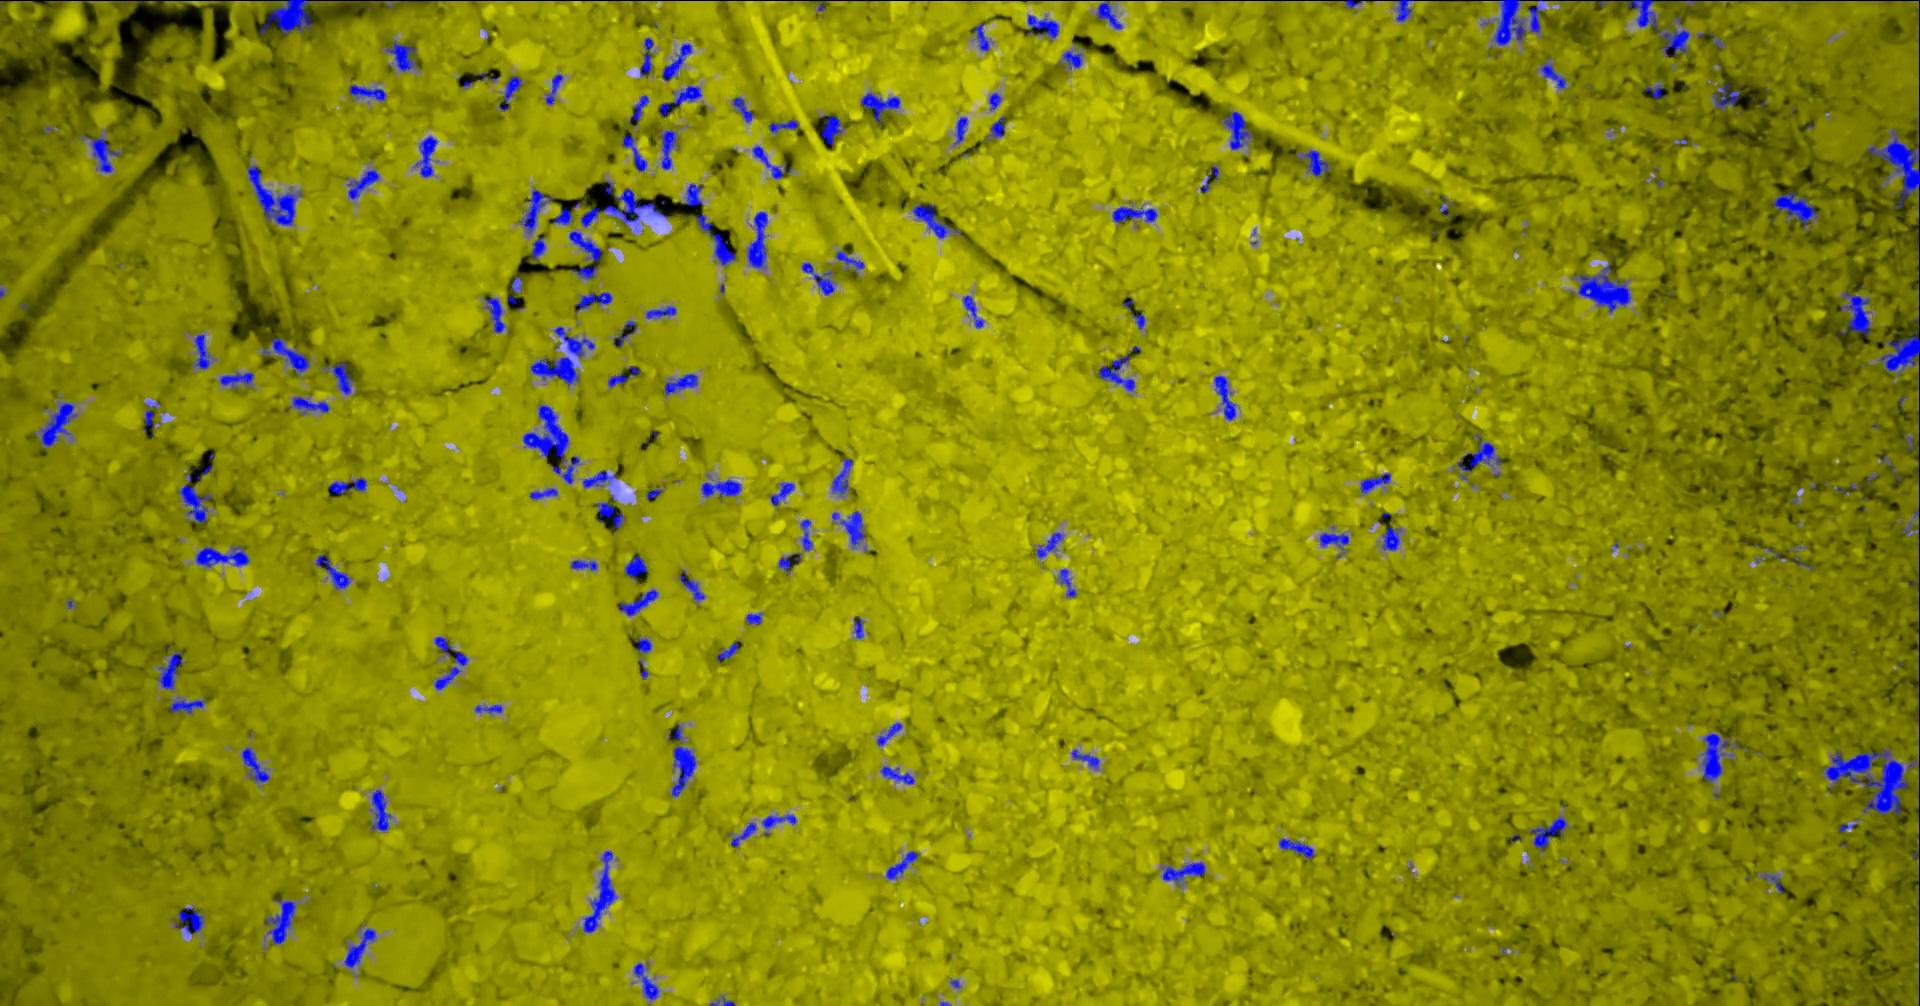ant: (580, 188, 669, 227), (582, 850, 616, 932), (1700, 732, 1749, 782), (695, 212, 735, 264), (1457, 433, 1500, 479), (668, 723, 695, 796), (433, 636, 467, 688), (177, 473, 212, 522), (910, 203, 961, 238), (1878, 333, 1919, 375), (1771, 191, 1817, 227), (39, 401, 76, 447), (1839, 291, 1870, 342), (568, 231, 601, 279), (80, 135, 121, 171), (519, 189, 552, 234), (270, 337, 309, 375), (530, 356, 579, 385), (1529, 815, 1567, 851), (264, 899, 295, 944), (659, 85, 702, 116), (1098, 354, 1134, 391), (752, 145, 791, 178), (552, 326, 594, 357), (315, 554, 350, 589), (343, 927, 375, 967), (830, 511, 863, 547), (860, 91, 899, 122), (747, 211, 767, 268), (196, 545, 249, 567), (801, 262, 836, 295), (662, 43, 691, 80), (1161, 861, 1205, 885), (1223, 111, 1251, 149), (616, 589, 658, 615), (1213, 375, 1236, 420), (413, 135, 437, 177), (1295, 150, 1330, 179), (241, 747, 269, 782), (386, 39, 417, 71), (621, 133, 646, 171), (347, 169, 378, 199), (324, 361, 353, 394), (156, 652, 182, 688), (632, 962, 658, 998), (885, 850, 917, 879), (371, 789, 391, 832), (830, 457, 852, 495), (1095, 0, 1123, 29), (498, 75, 521, 111), (1540, 56, 1566, 88), (483, 297, 505, 332), (594, 500, 623, 527), (174, 907, 203, 934), (575, 291, 611, 312), (1025, 14, 1058, 37), (1712, 83, 1738, 111), (552, 455, 579, 483), (700, 479, 742, 497), (819, 116, 844, 145), (1319, 532, 1349, 558), (1112, 206, 1157, 222), (607, 365, 639, 387), (288, 396, 329, 414), (761, 814, 796, 835), (1035, 532, 1063, 558), (679, 570, 703, 600), (663, 373, 697, 394), (348, 84, 386, 102), (1277, 838, 1313, 857), (623, 553, 648, 580), (834, 250, 863, 273), (963, 295, 983, 326), (1359, 473, 1390, 493), (730, 822, 756, 847), (328, 478, 366, 494), (880, 765, 913, 784), (612, 320, 636, 345), (876, 721, 902, 746), (662, 130, 677, 169), (193, 334, 210, 370), (582, 470, 617, 486), (770, 481, 794, 506), (629, 95, 648, 126), (218, 371, 253, 387), (545, 72, 563, 104), (1057, 568, 1076, 597), (142, 401, 160, 432), (639, 37, 653, 75), (1070, 749, 1098, 768), (971, 22, 989, 51), (731, 97, 752, 122), (1199, 165, 1218, 192), (169, 699, 204, 713), (1900, 520, 1919, 545), (1382, 526, 1401, 550), (777, 553, 801, 572), (1761, 873, 1783, 893), (683, 183, 702, 206), (952, 116, 968, 144), (716, 641, 738, 661), (767, 119, 797, 132), (645, 305, 676, 318), (799, 520, 811, 550), (1396, 0, 1413, 22), (387, 0, 436, 8), (530, 236, 545, 260), (1062, 50, 1081, 69), (988, 116, 1004, 137), (530, 486, 557, 499), (551, 207, 571, 224), (1644, 83, 1665, 98), (1903, 433, 1919, 453), (570, 559, 596, 570), (1437, 196, 1451, 216), (1343, 0, 1379, 8), (709, 995, 734, 1005), (1709, 30, 1723, 48), (637, 635, 651, 653), (474, 704, 502, 713), (988, 91, 1001, 111), (1131, 310, 1144, 329), (853, 616, 863, 638), (510, 276, 522, 292), (645, 488, 662, 499), (745, 612, 761, 624), (1917, 669, 1919, 724), (334, 0, 383, 1)
